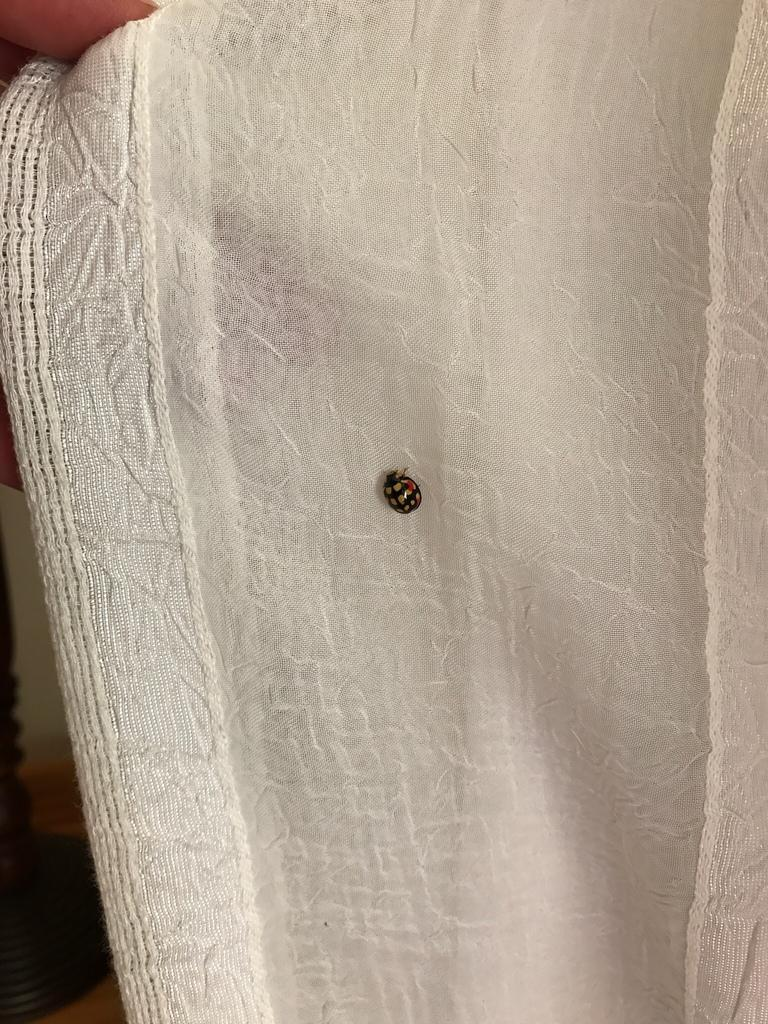ladybug: (383, 465, 424, 515)
